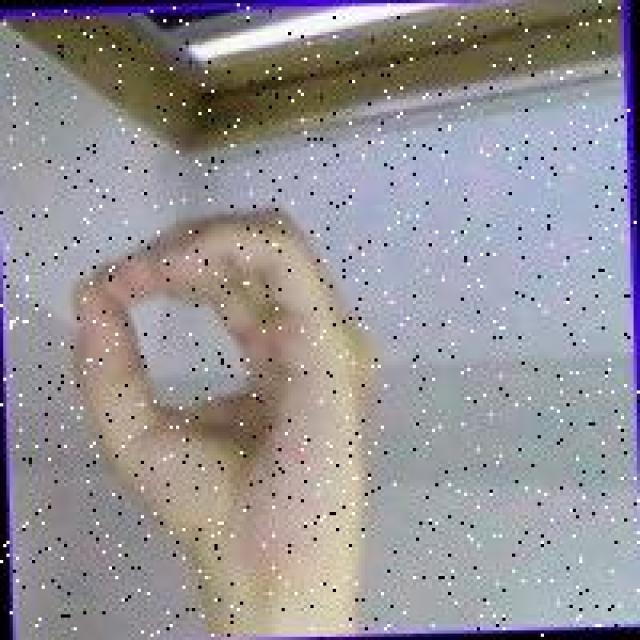O: (61, 197, 397, 574)
